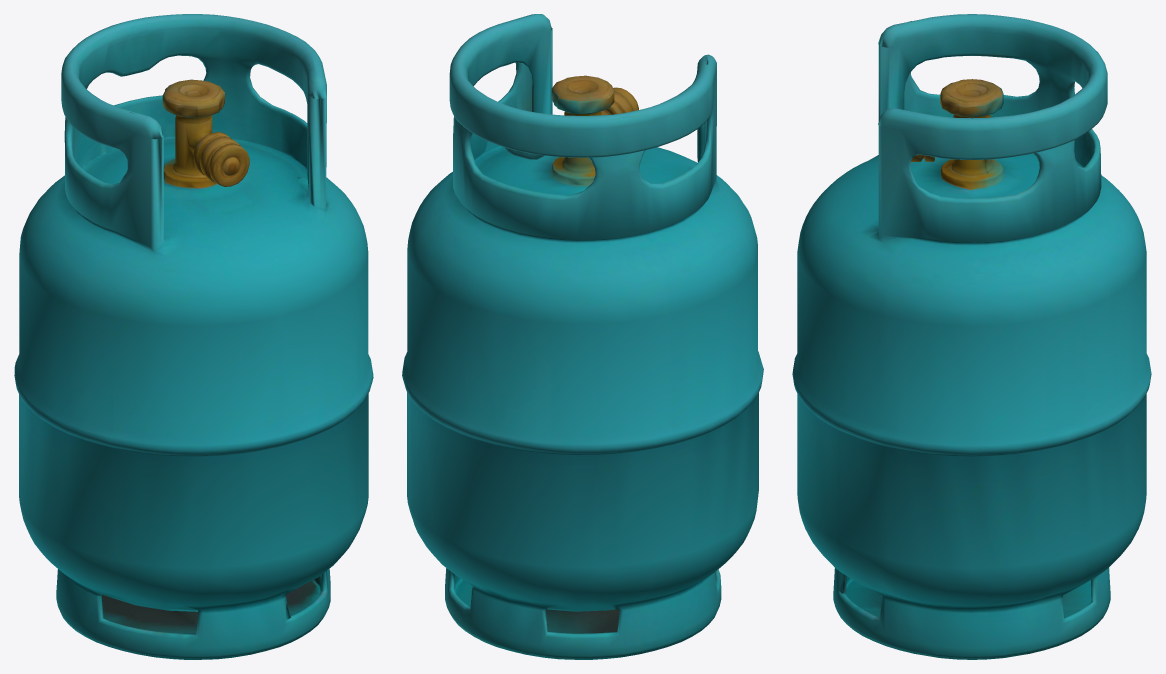
File: a_propane_tank_813fc20e_v2.glb
The picture shows the model from 3 angles, left to right: view 1: azimuth 30°, elevation 25°; view 2: azimuth 150°, elevation 25°; view 3: azimuth 270°, elevation 25°; orthographic projection.
Visible parts, largest first — view 1: material; view 2: material; view 3: material.
Part boxes in pixels (x1=…): material: x1=14, y1=14, x2=373, y2=659; material: x1=402, y1=14, x2=763, y2=659; material: x1=792, y1=14, x2=1151, y2=659.
Size of the model in its own units: 1.15 by 1.9 by 1.15.
1 material, 1 textured.
